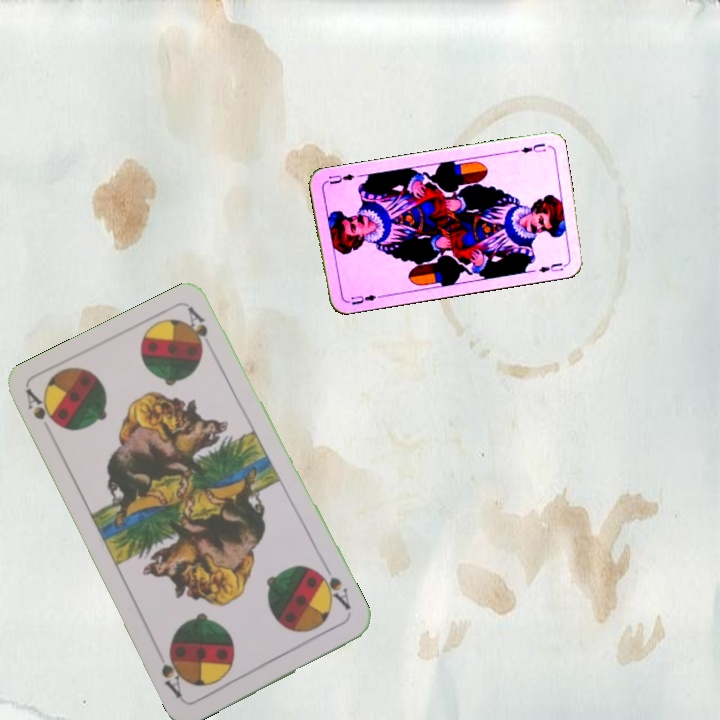EU: (343, 290, 379, 307), (517, 139, 548, 155)
SA: (313, 563, 353, 613), (22, 386, 63, 431)
